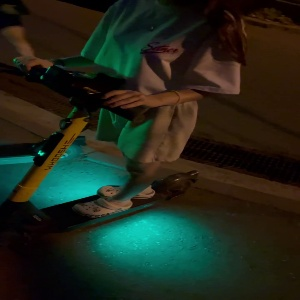human on a scooter: (1, 1, 247, 266)
